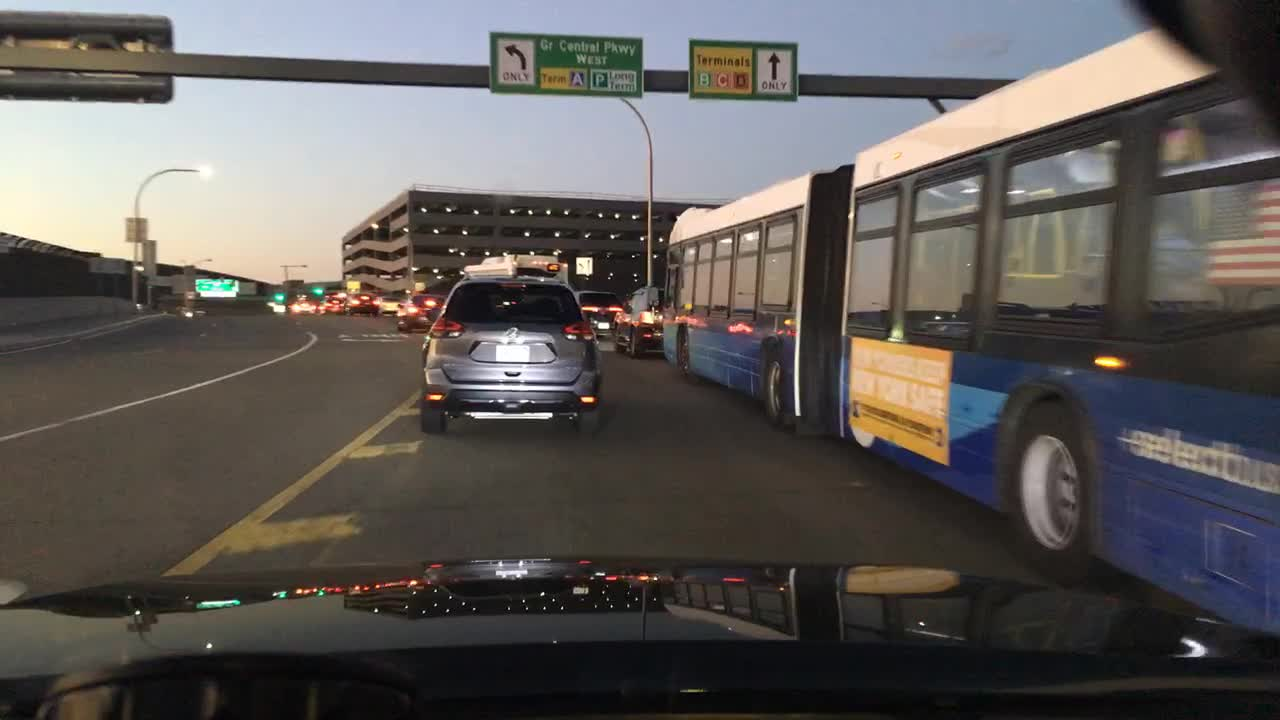bus: (657, 18, 1273, 633)
car: (418, 253, 603, 433), (612, 285, 663, 360), (571, 288, 624, 336), (395, 292, 445, 333), (286, 290, 318, 316), (346, 292, 379, 317), (315, 293, 344, 314), (373, 295, 401, 315)
traffic light: (274, 290, 285, 303), (314, 286, 324, 294)
traffic sign: (0, 9, 174, 105), (487, 30, 644, 95), (688, 40, 798, 101), (193, 278, 239, 297), (86, 255, 127, 275), (124, 216, 147, 243), (574, 255, 593, 275), (345, 279, 361, 290), (414, 280, 425, 290)
